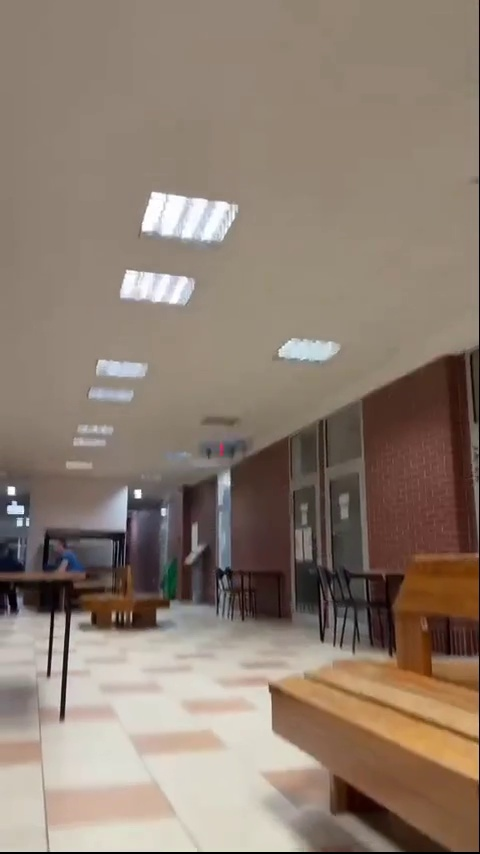drone: (188, 434, 258, 470)
no vest: (39, 532, 87, 590)
